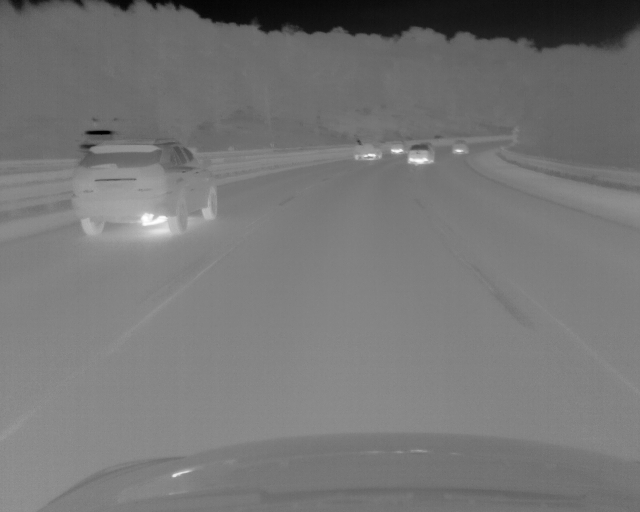car: (68, 139, 218, 236), (77, 116, 125, 156), (353, 133, 383, 160), (407, 144, 436, 164), (389, 139, 406, 154), (451, 140, 470, 153)
